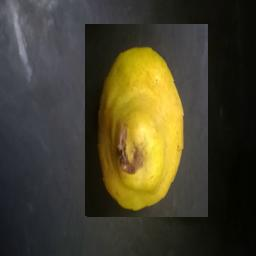Pear Fresh: (85, 25, 208, 218)
